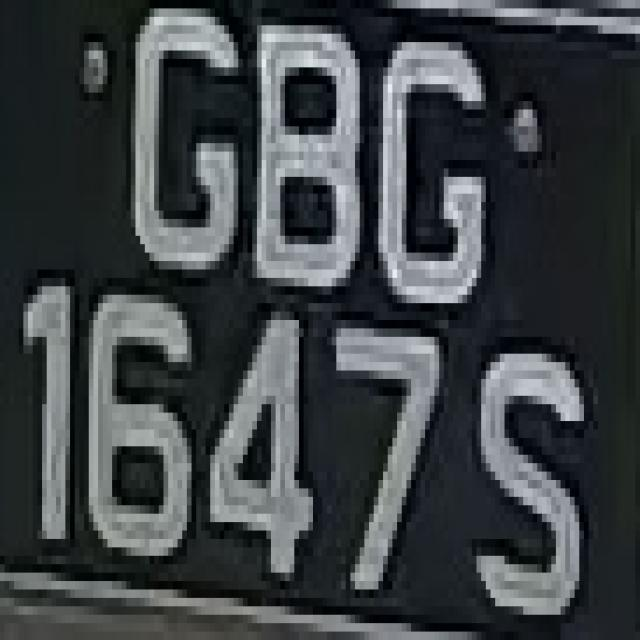1: (9, 270, 89, 564)
4: (192, 286, 322, 606)
6: (80, 261, 196, 581)
7: (322, 294, 439, 614)
B: (243, 25, 378, 320)
G: (112, 0, 238, 303), (374, 34, 509, 312)
S: (472, 312, 598, 623)
